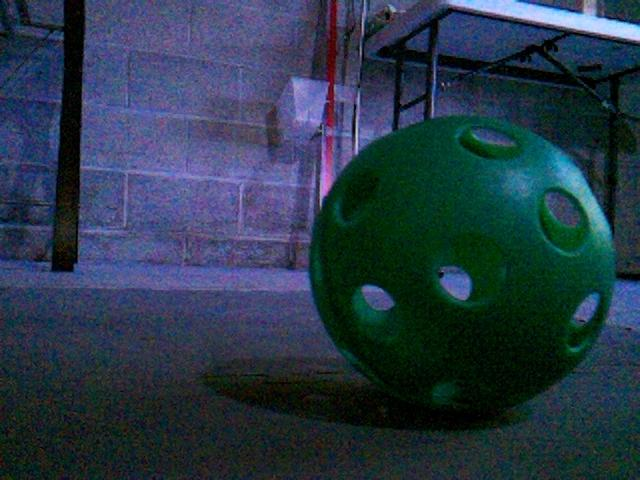Green: (309, 117, 618, 416)
